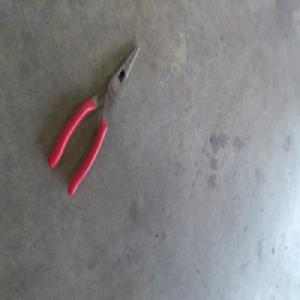Pliers: (47, 44, 140, 195)
